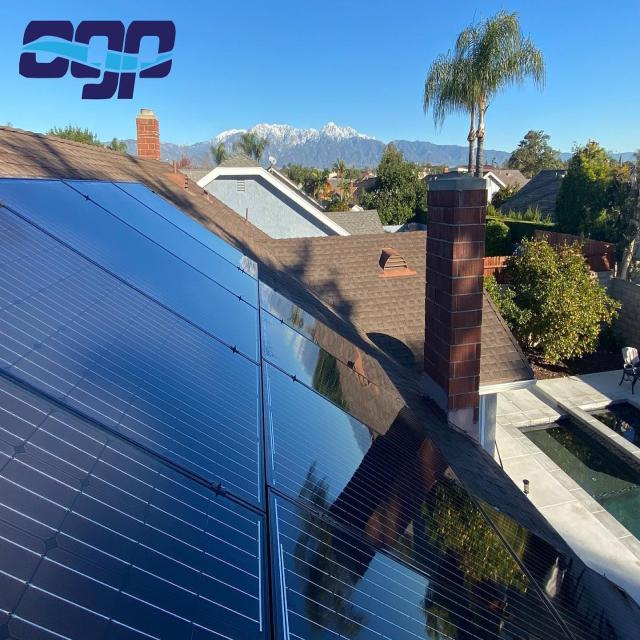clean-solar-panel: (1, 179, 640, 639)
